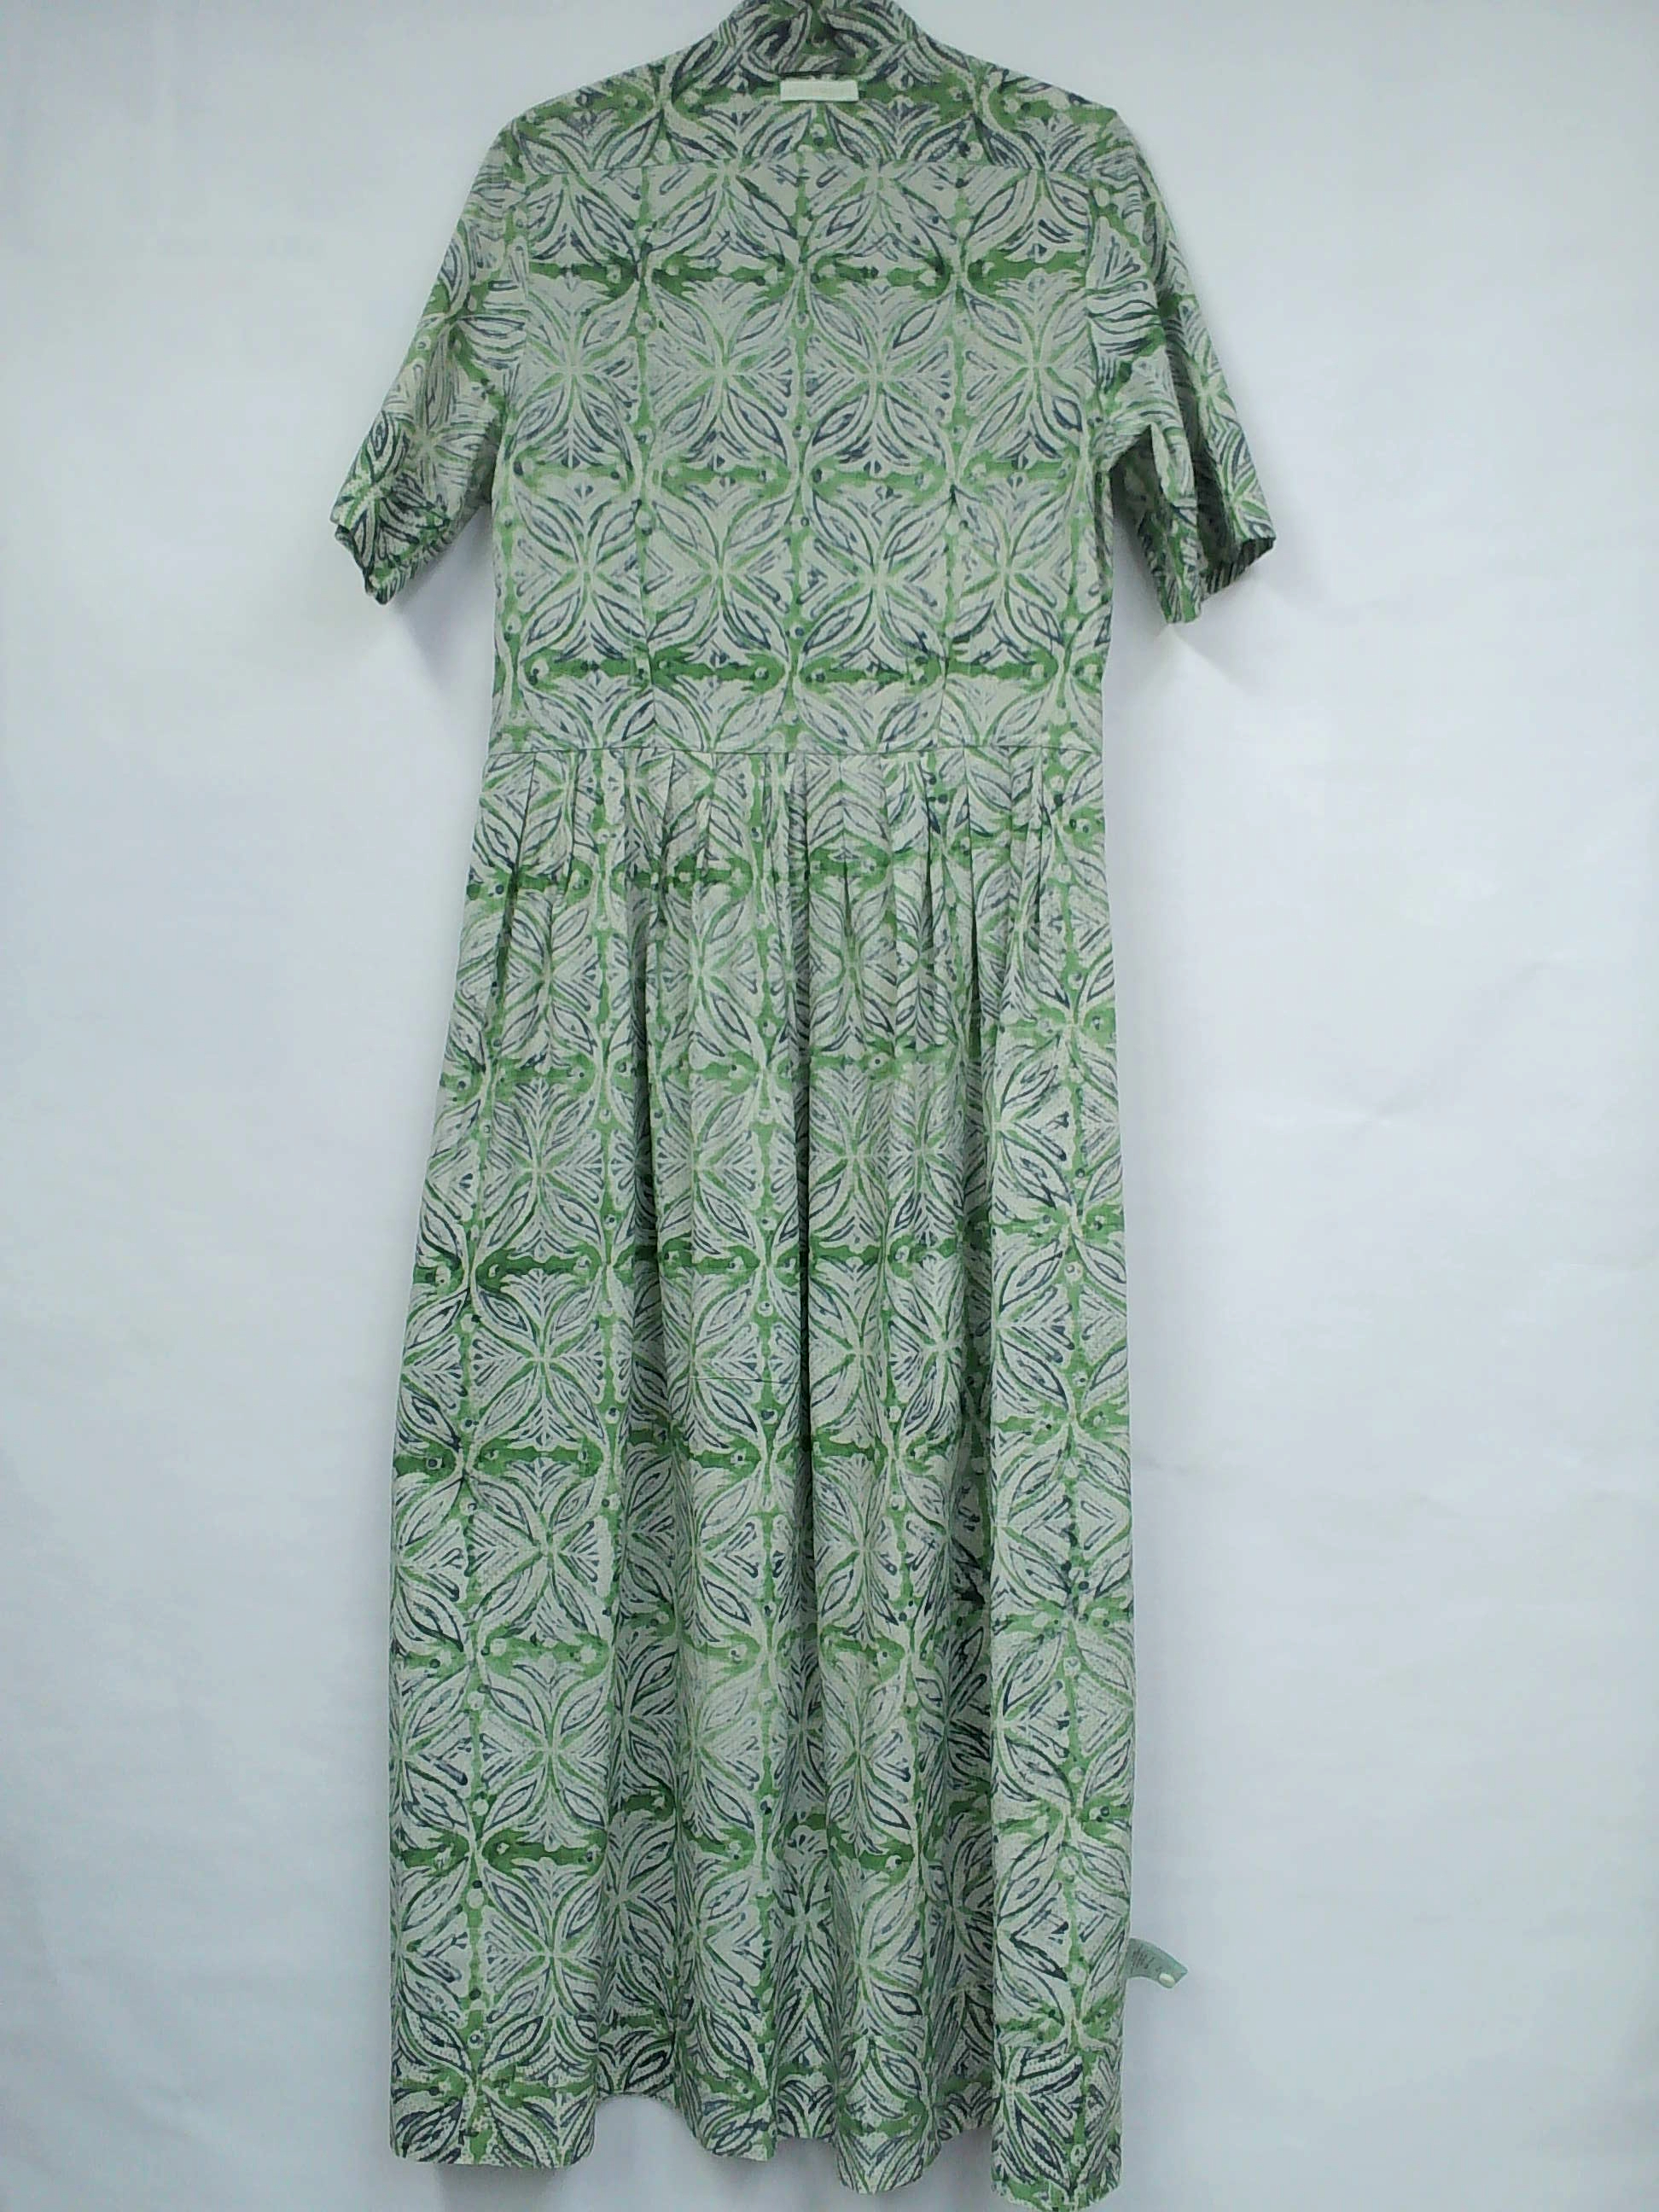structural: (744, 51, 899, 129)
